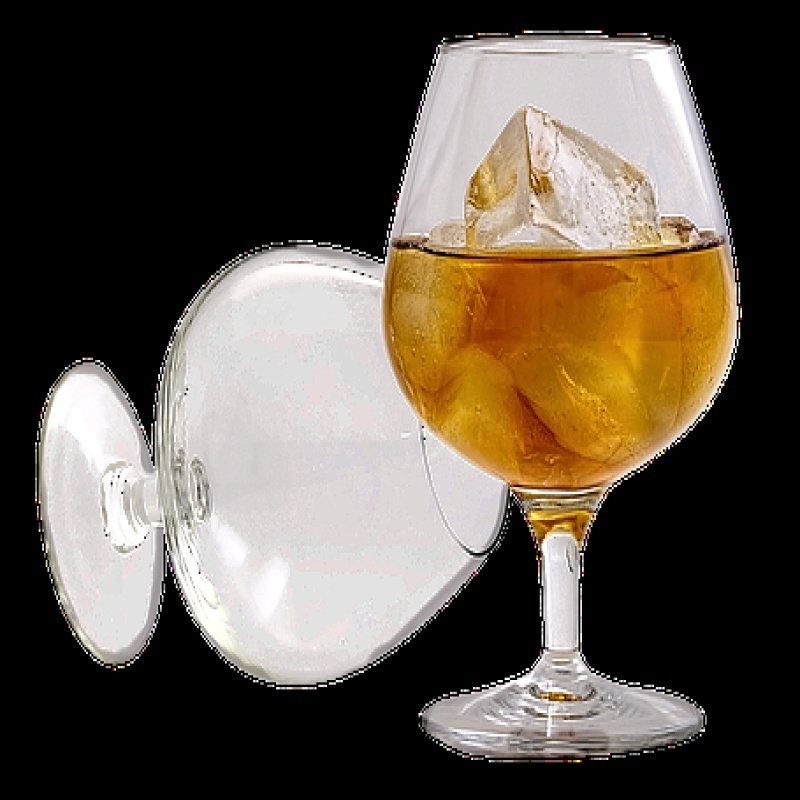whiskey: (376, 26, 753, 491)
